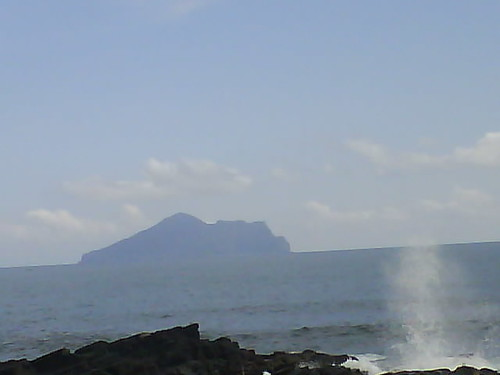turtleIsland: (73, 209, 291, 255)
